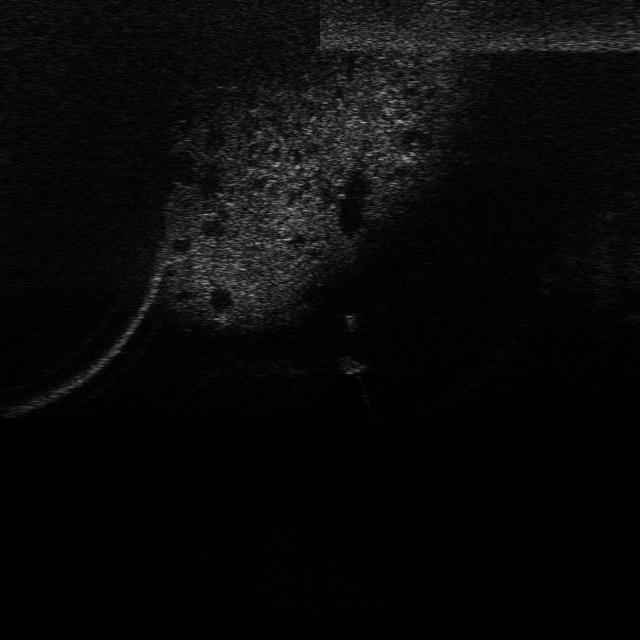cube: (336, 352, 370, 378)
cylinder: (339, 308, 363, 336)
